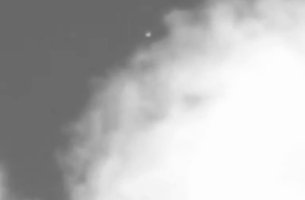Target: (147, 34, 151, 37)
